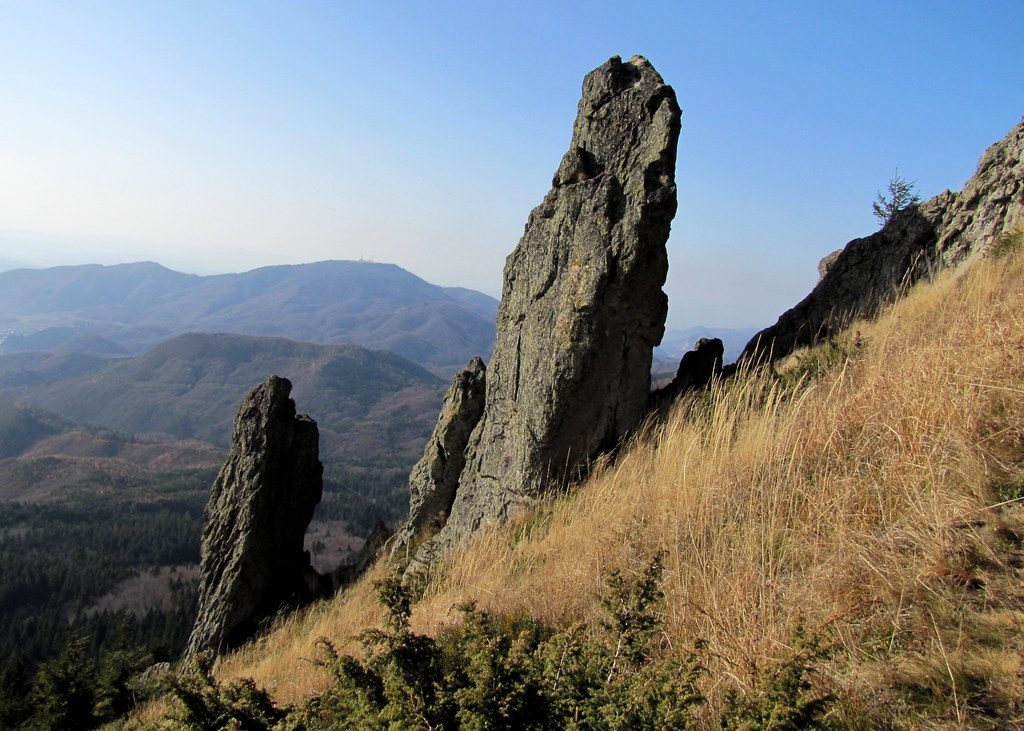volcanic_rock: (387, 48, 671, 582), (168, 382, 345, 661)
